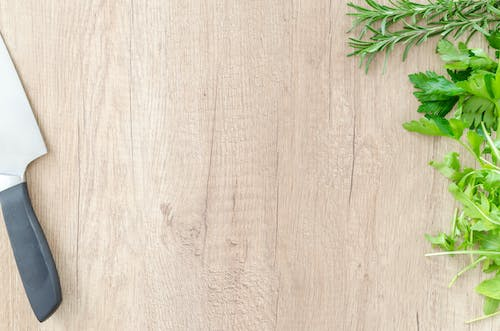knife: (0, 30, 64, 325)
